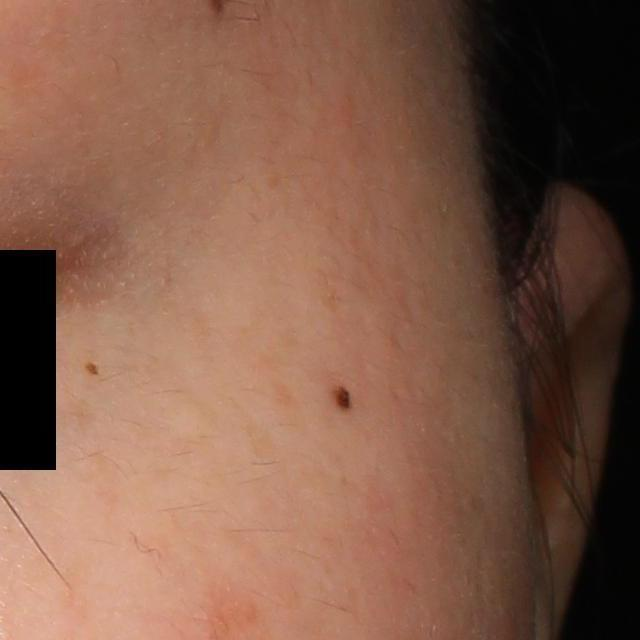nevus: (330, 379, 355, 411), (83, 360, 101, 377)
